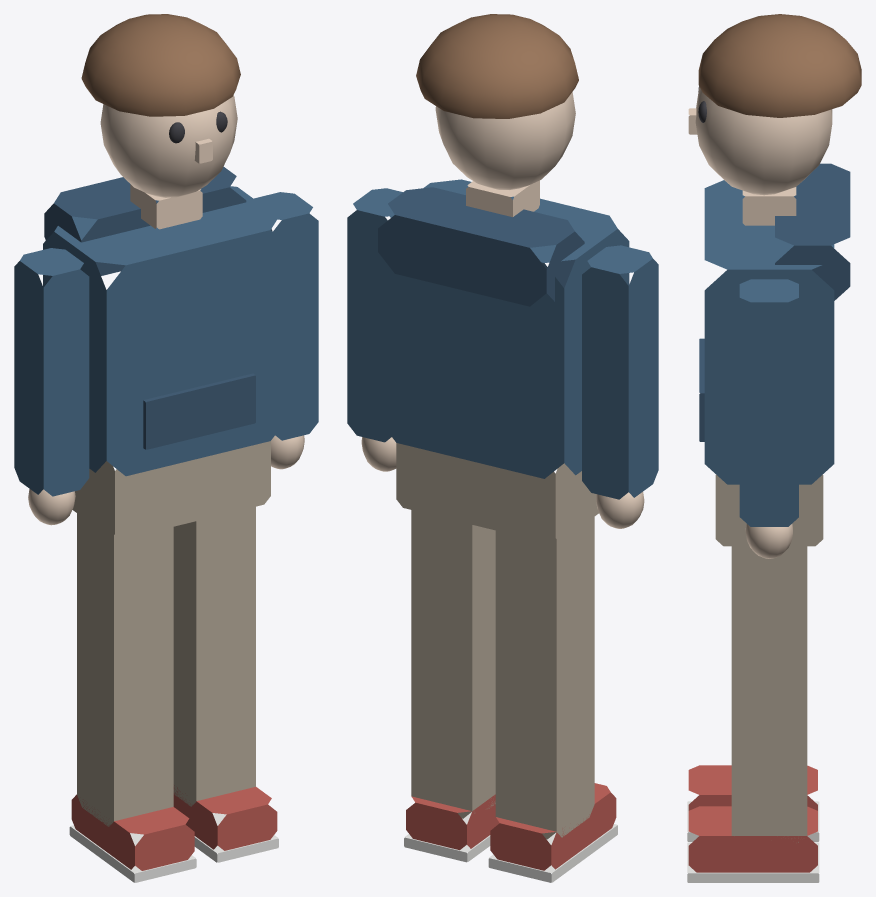
Rendered from theo.glb.
3 renders of one model, left to right at view 1: azimuth 30°, elevation 25°; view 2: azimuth 150°, elevation 25°; view 3: azimuth 270°, elevation 25°, orthographic. The views are drawn at different scales.
Visible parts, largest first — view 1: torso, leg_R, leg_L, arm_R, hair, hips, head, arm_L, pocket, hood, shoe_R, shoe_L (+5 smaller); view 2: torso, leg_R, leg_L, arm_R, hood, hair, hips, head, arm_L, shoe_R, shoe_L, neck (+4 smaller); view 3: leg_L, torso, arm_L, hair, head, hood, shoe_L, hips, shoe_R, sole_L, neck, hand_L (+1 smaller).
Part boxes in pixels (bbox=[...]): torso: bbox=[43, 186, 289, 476]; leg_R: bbox=[77, 513, 173, 826]; leg_L: bbox=[173, 506, 255, 806]; arm_R: bbox=[14, 248, 89, 496]; hair: bbox=[81, 14, 240, 116]; hips: bbox=[72, 441, 270, 539]; head: bbox=[100, 95, 237, 197]; arm_L: bbox=[254, 192, 318, 440]; pocket: bbox=[143, 373, 255, 449]; hood: bbox=[44, 166, 246, 275]; shoe_R: bbox=[71, 794, 194, 870]; shoe_L: bbox=[173, 785, 277, 850]; torso: bbox=[376, 179, 629, 478]; leg_R: bbox=[495, 517, 594, 839]; leg_L: bbox=[411, 510, 495, 818]; arm_R: bbox=[582, 245, 658, 499]; hood: bbox=[378, 187, 584, 306]; hair: bbox=[416, 14, 578, 118]; hips: bbox=[396, 443, 598, 543]; head: bbox=[435, 92, 575, 189]; arm_L: bbox=[347, 188, 402, 442]; shoe_R: bbox=[490, 783, 616, 870]; shoe_L: bbox=[406, 794, 499, 850]; neck: bbox=[466, 180, 539, 217]; leg_L: bbox=[731, 546, 807, 842]; torso: bbox=[704, 180, 834, 484]; arm_L: bbox=[739, 279, 798, 526]; hair: bbox=[698, 14, 861, 117]; head: bbox=[695, 87, 832, 195]; hood: bbox=[775, 163, 850, 300]; shoe_L: bbox=[688, 806, 817, 872]; hips: bbox=[715, 474, 823, 546]; shoe_R: bbox=[688, 765, 817, 810]; sole_L: bbox=[687, 842, 819, 882]; neck: bbox=[742, 187, 796, 225]; hand_L: bbox=[745, 523, 792, 558].
Size of the model in its own units: 0.6 by 1.68 by 0.3236.
